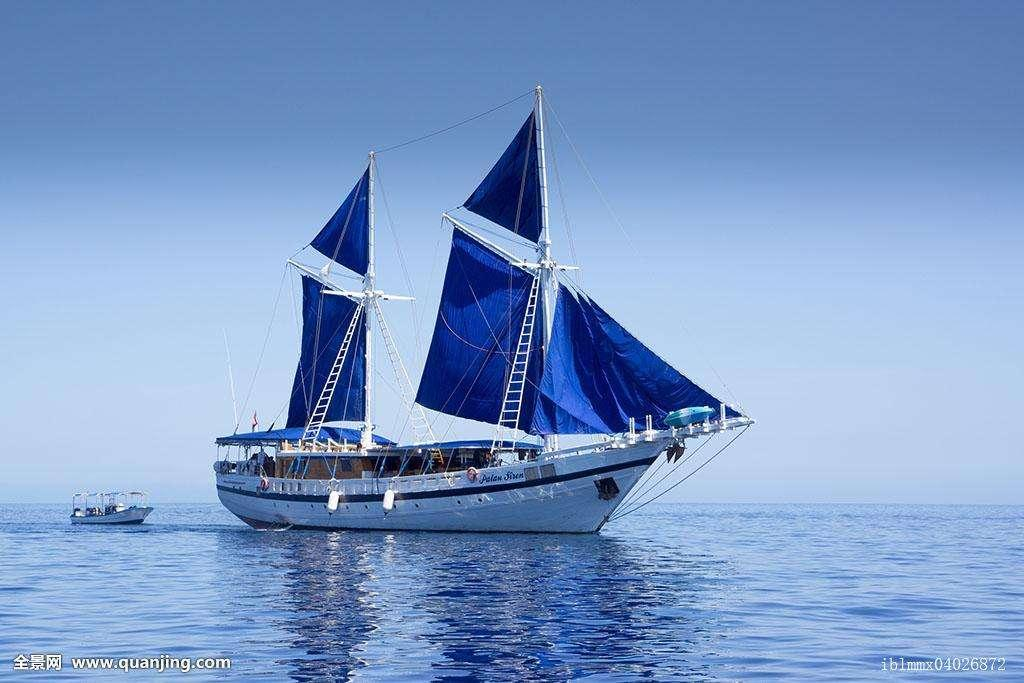fanchuan: (213, 81, 746, 537)
otherboat: (56, 484, 167, 526)
